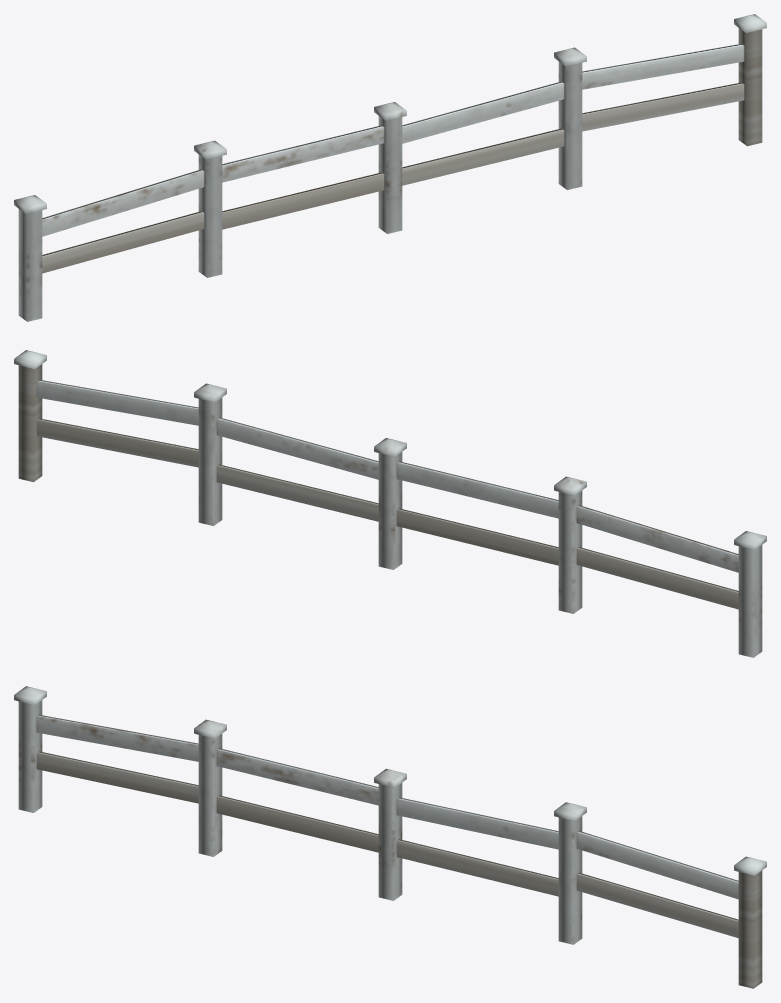
Rendered from objects_un_t01fence01.gltf.
3 renders of one model, top to bottom at view 1: azimuth 30°, elevation 25°; view 2: azimuth 150°, elevation 25°; view 3: azimuth 330°, elevation 25°, orthographic.
Parts seen in each view (by area): view 1: fence01_mesh2_lod0_shape:objects_un_t01fence01_01; view 2: fence01_mesh2_lod0_shape:objects_un_t01fence01_01; view 3: fence01_mesh2_lod0_shape:objects_un_t01fence01_01.
Part boxes in pixels (x1=…): fence01_mesh2_lod0_shape:objects_un_t01fence01_01: x1=14, y1=14, x2=766, y2=321; fence01_mesh2_lod0_shape:objects_un_t01fence01_01: x1=14, y1=350, x2=766, y2=657; fence01_mesh2_lod0_shape:objects_un_t01fence01_01: x1=14, y1=686, x2=766, y2=988.
Size of what is drawn, in the model's own units: 7.41 by 1.3 by 0.21.
1 material, 1 textured.
